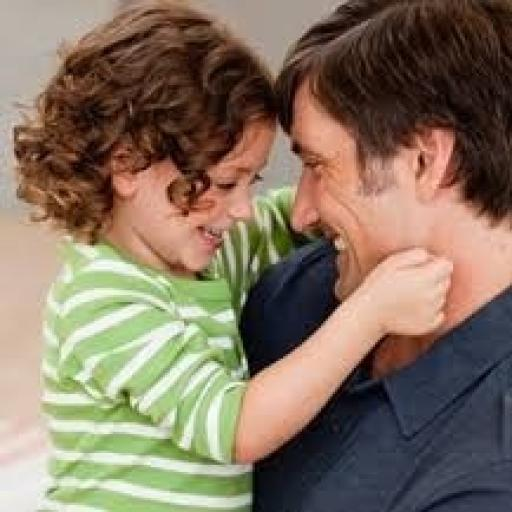hugging: (7, 0, 510, 510)
